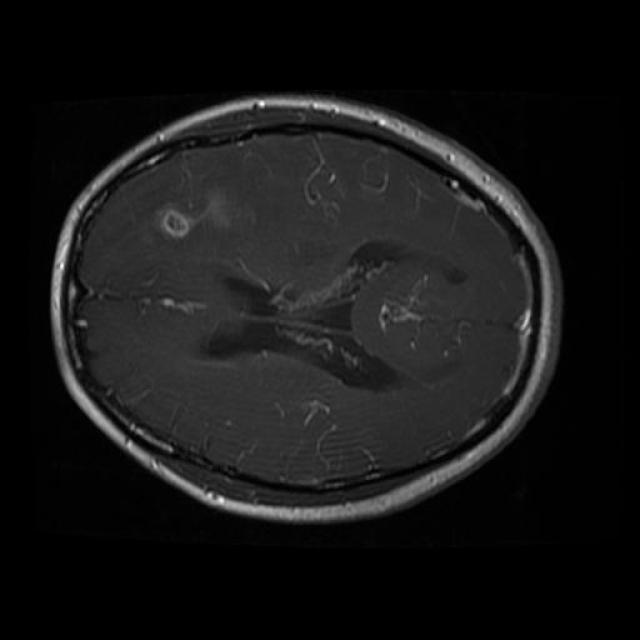Glioma: (156, 192, 231, 240)
